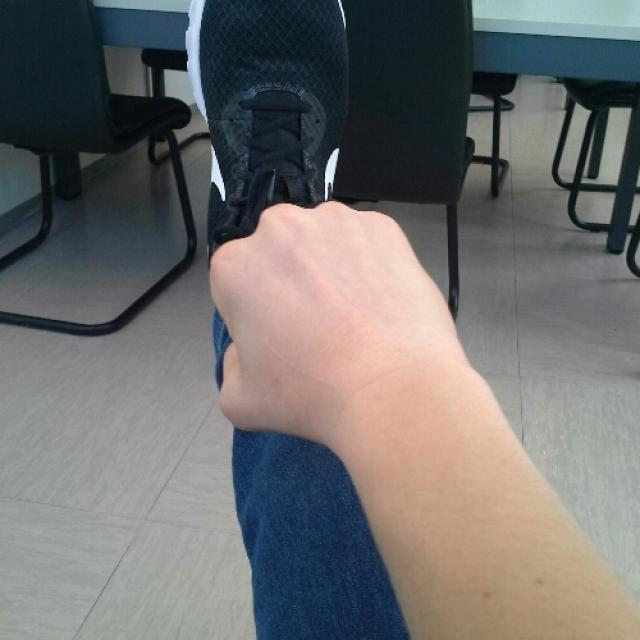rock: (210, 202, 440, 444)
